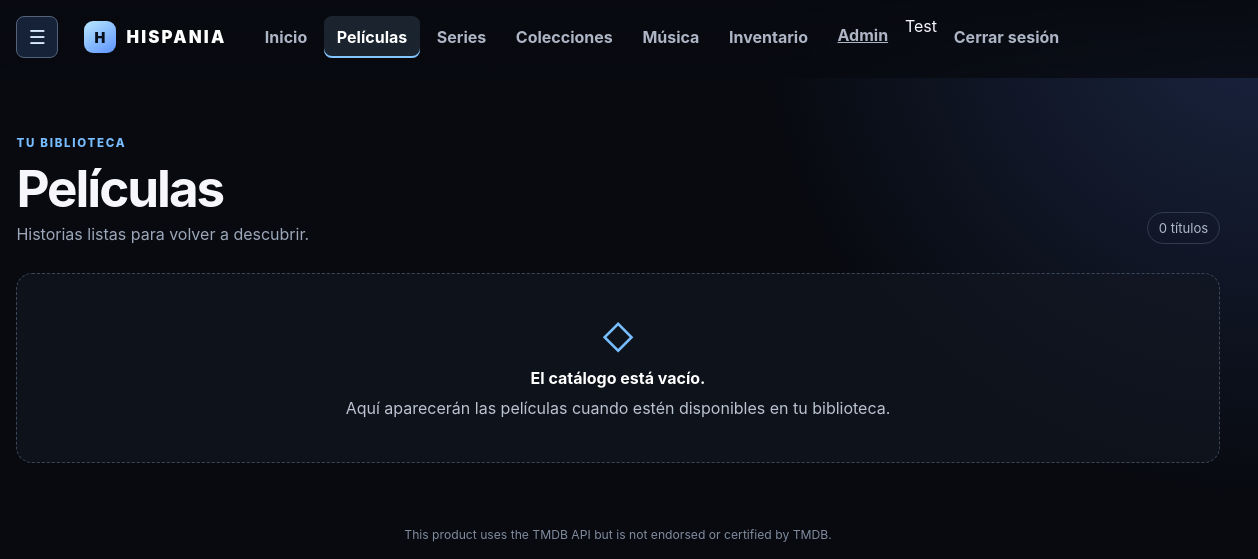
App › keeps every library section visible and shows honest unavailable states
Expected: the navigation bar named "Navegación principal" is shown, [252,16,1072,58]
Click the button "Series" at (462, 37), box [424,16,499,58]
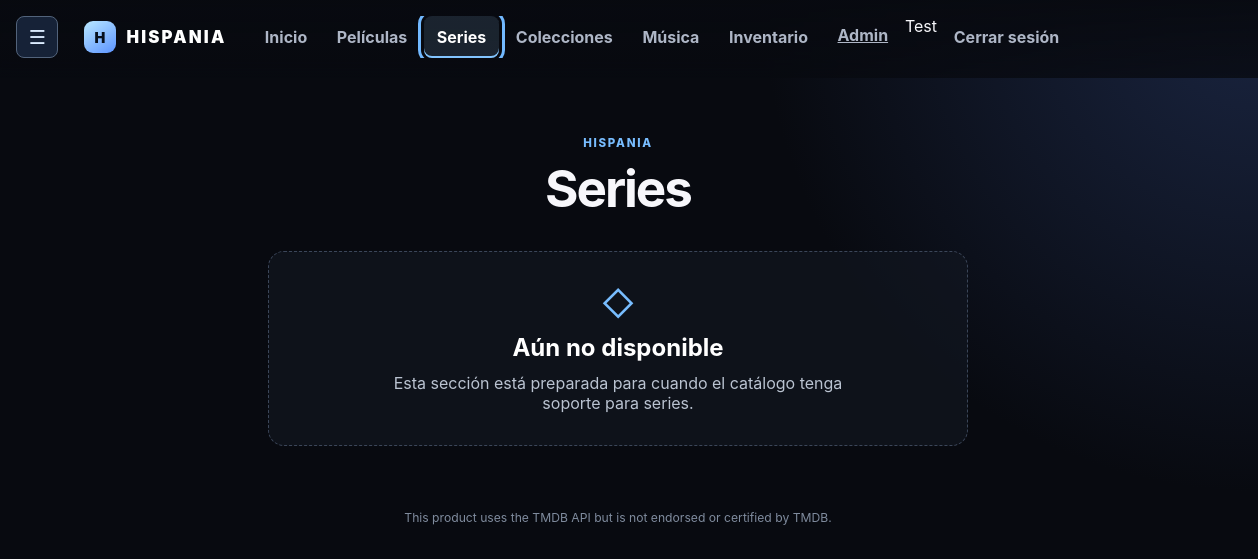
Expected: the heading "Series" is shown, [545,157,691,219]
Expected: the heading "Aún no disponible" is shown, [512,333,724,362]
Click the button "Colecciones" at (564, 37), box [503,16,626,58]
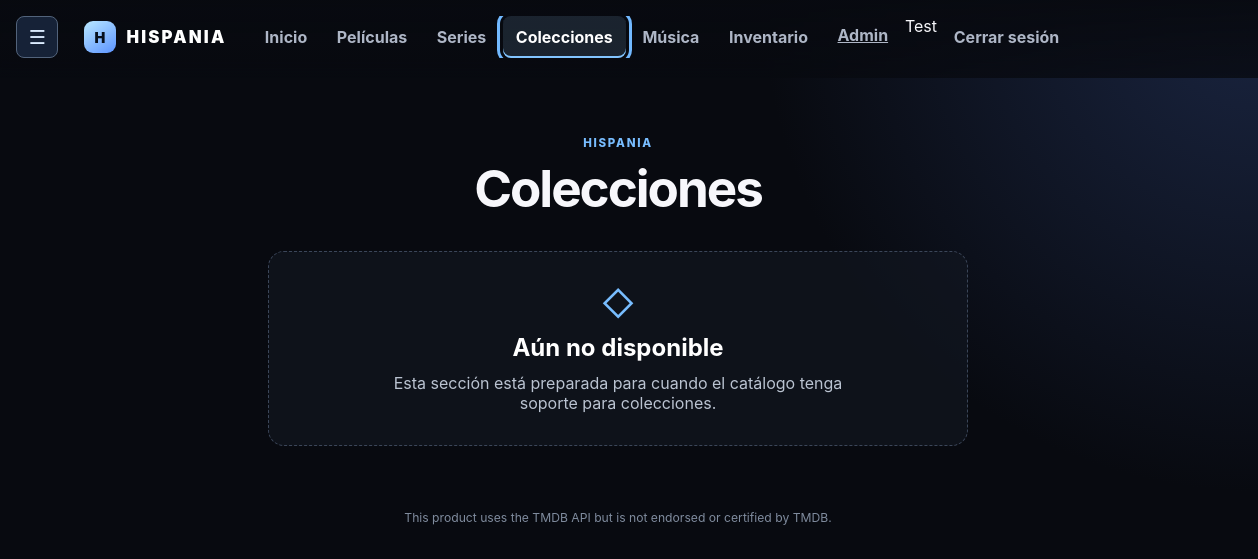
Expected: the heading "Aún no disponible" is shown, [512,333,724,362]
Expected: the heading "Colecciones" is shown, [474,157,762,219]
Click the button "Música" at (671, 37), box [630,16,712,58]
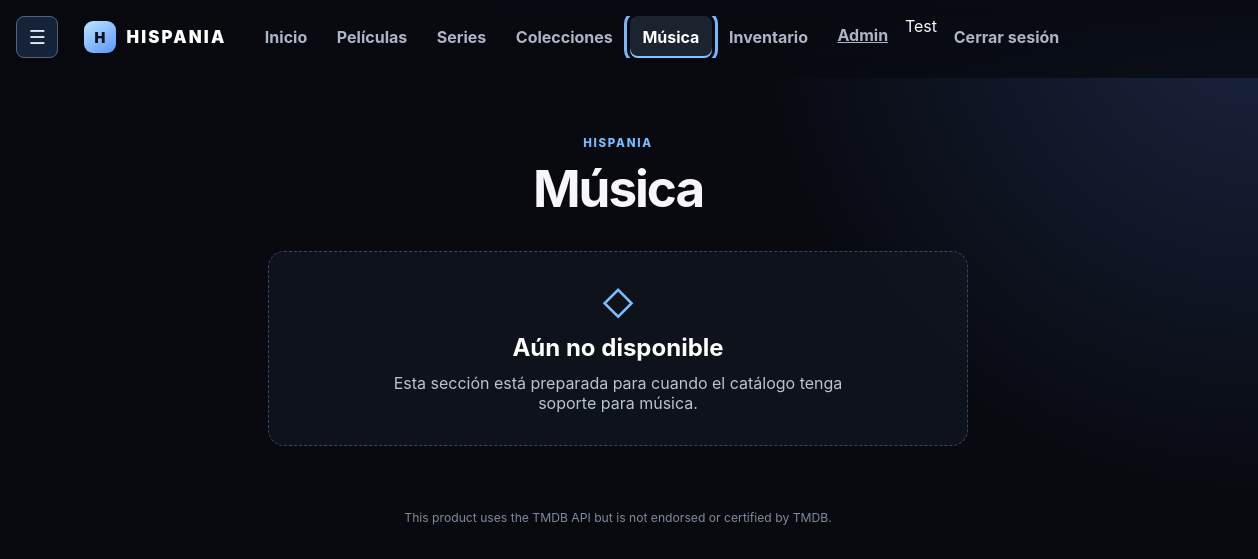
Expected: the heading "Aún no disponible" is shown, [512,333,724,362]
Expected: the heading "Música" is shown, [533,157,703,219]
